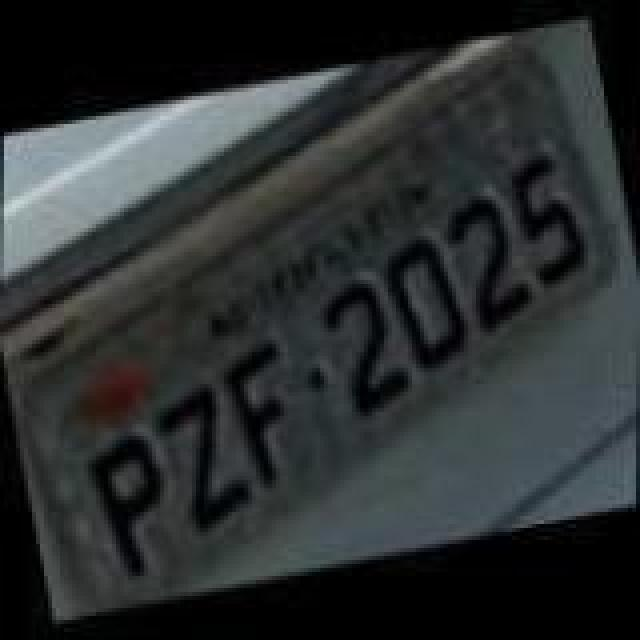2: (310, 268, 426, 424), (436, 182, 544, 338)
5: (492, 140, 600, 292)
F: (212, 332, 320, 496)
O: (382, 230, 482, 378)
P: (78, 422, 186, 578)
Z: (148, 372, 264, 532)
